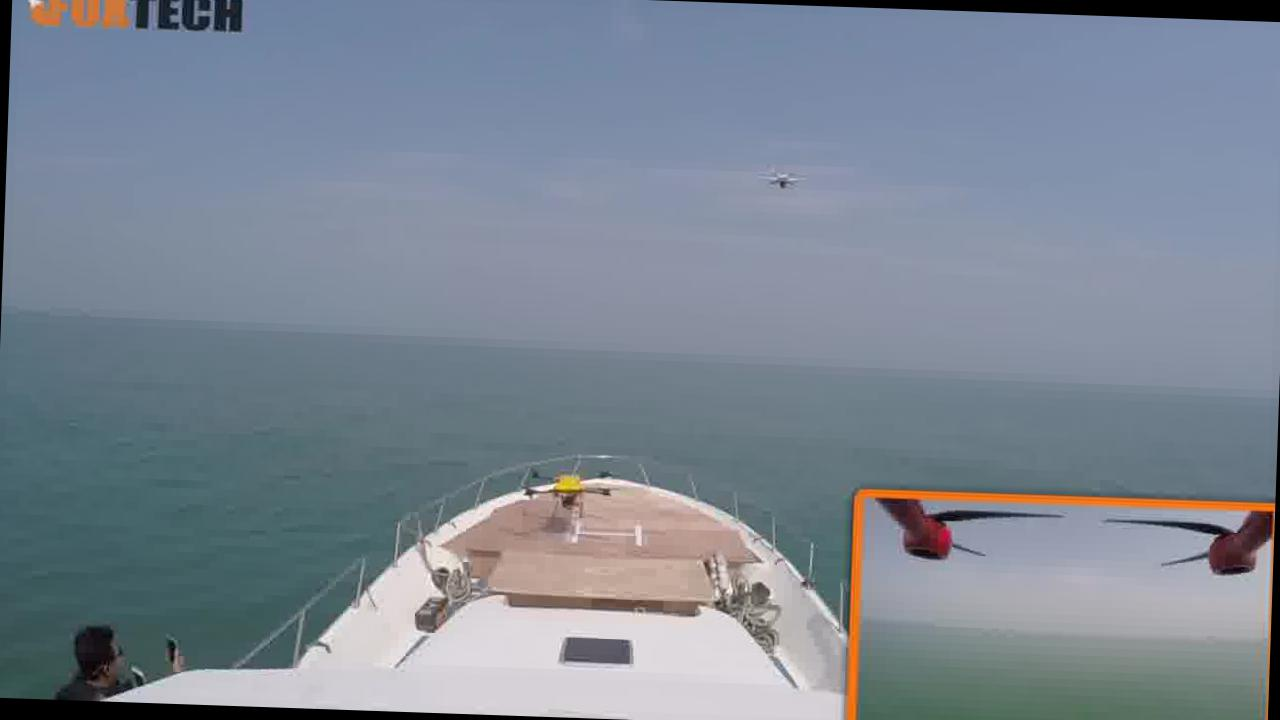drone: (498, 437, 642, 511), (757, 162, 812, 205)
